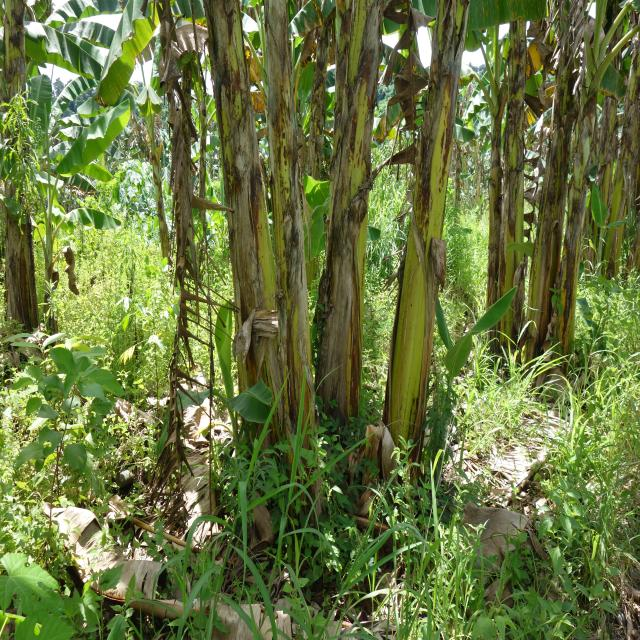Banana-plant: (200, 1, 296, 528), (370, 0, 469, 493), (544, 8, 628, 394), (314, 0, 383, 427), (270, 4, 323, 521), (524, 0, 582, 374), (0, 0, 44, 358), (503, 1, 529, 363), (481, 33, 504, 371), (610, 52, 640, 287), (148, 104, 172, 268)
